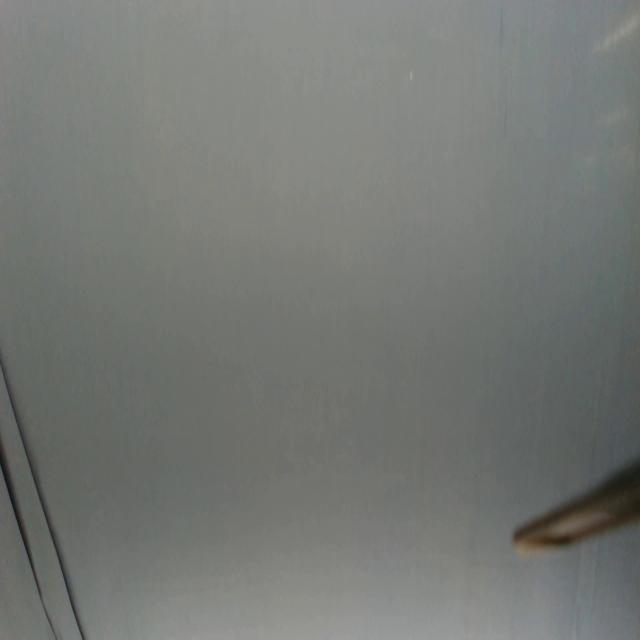crease: (0, 357, 86, 639)
hole: (409, 68, 414, 83)
